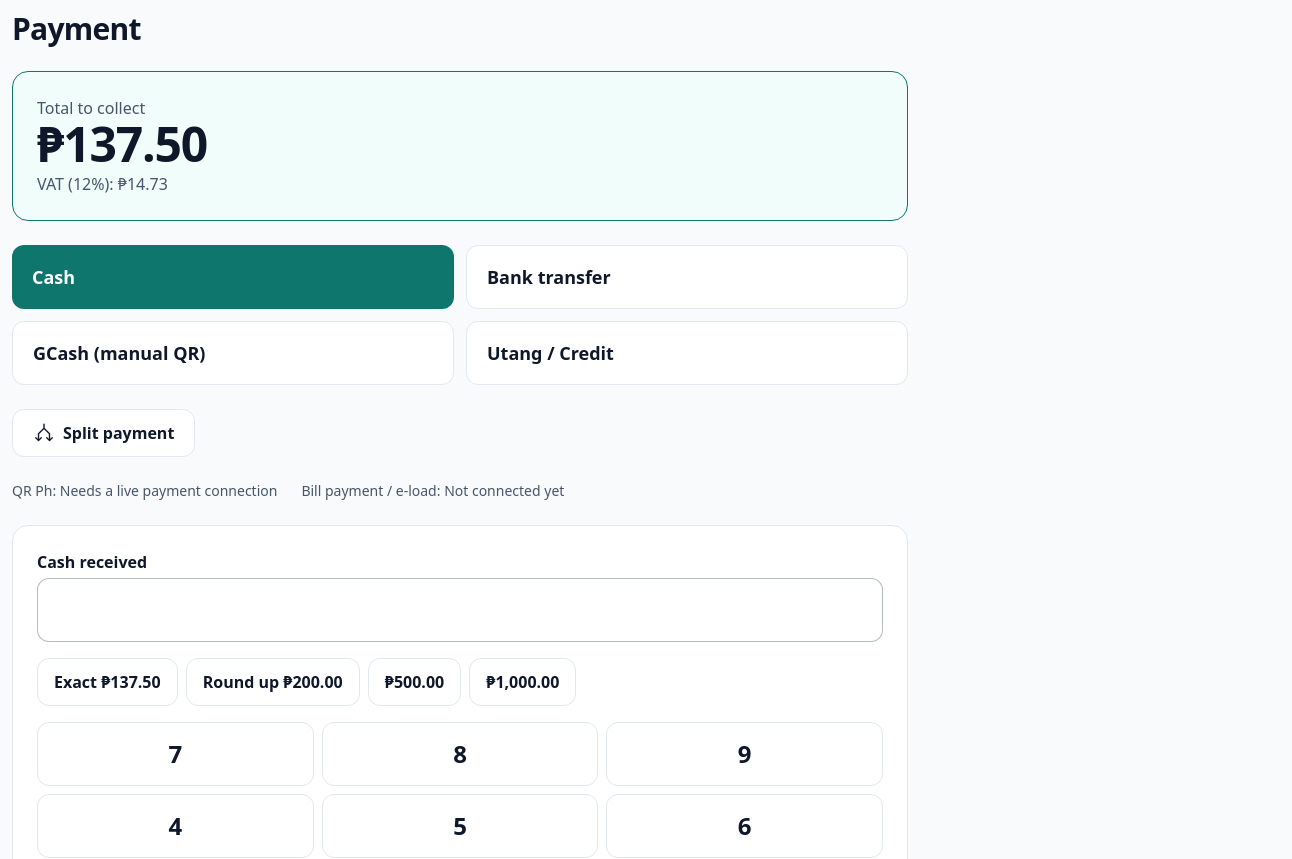
Test case: PaymentPage when the total on the server has moved › shows the server total again and charges nothing when the sale is refused for a changed price
Type "500" into the field labelled "Cash received".
click(460, 610); type("500")  # box [37, 578, 883, 642]
(page scrolled)
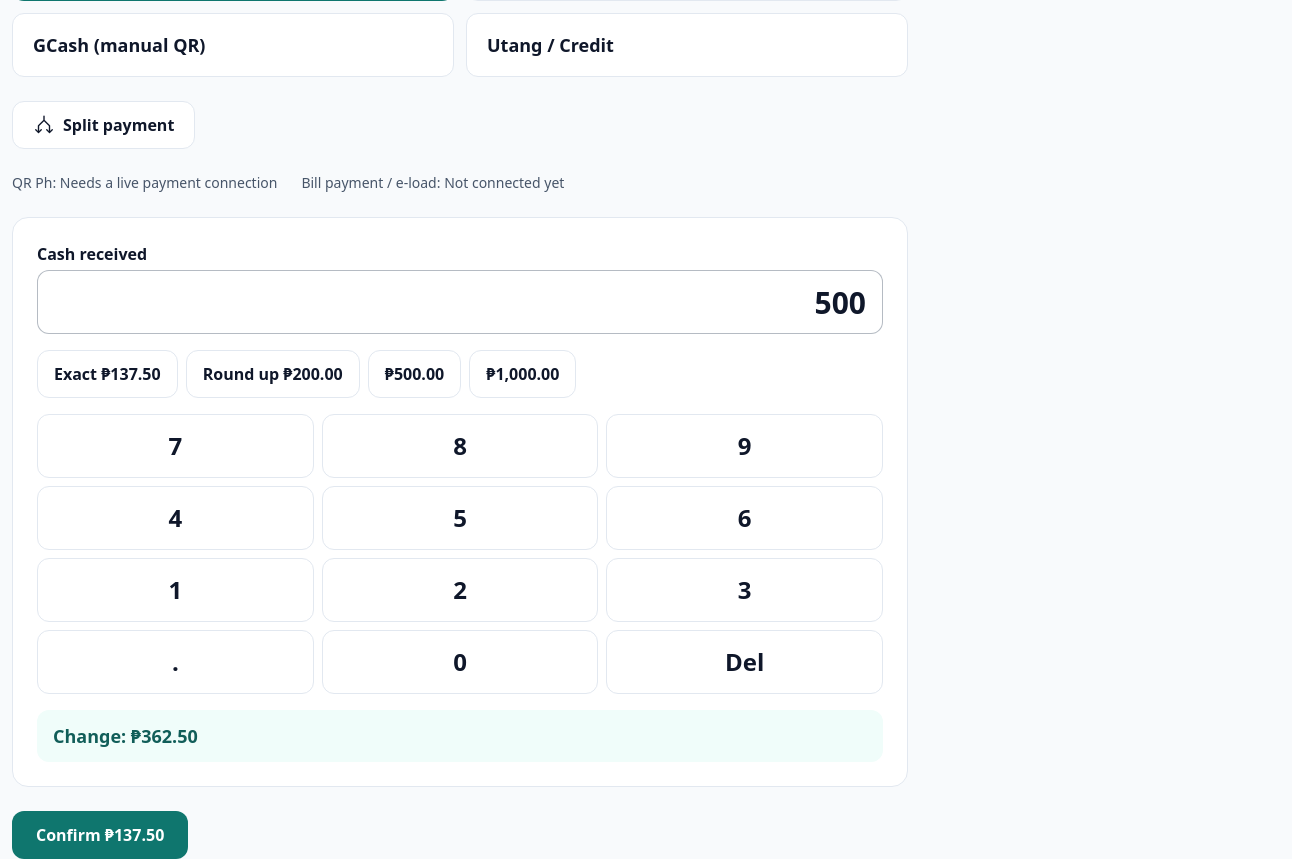
Click the button "Confirm ₱137.50".
click(100, 835)  # box [12, 811, 188, 858]
(page scrolled)
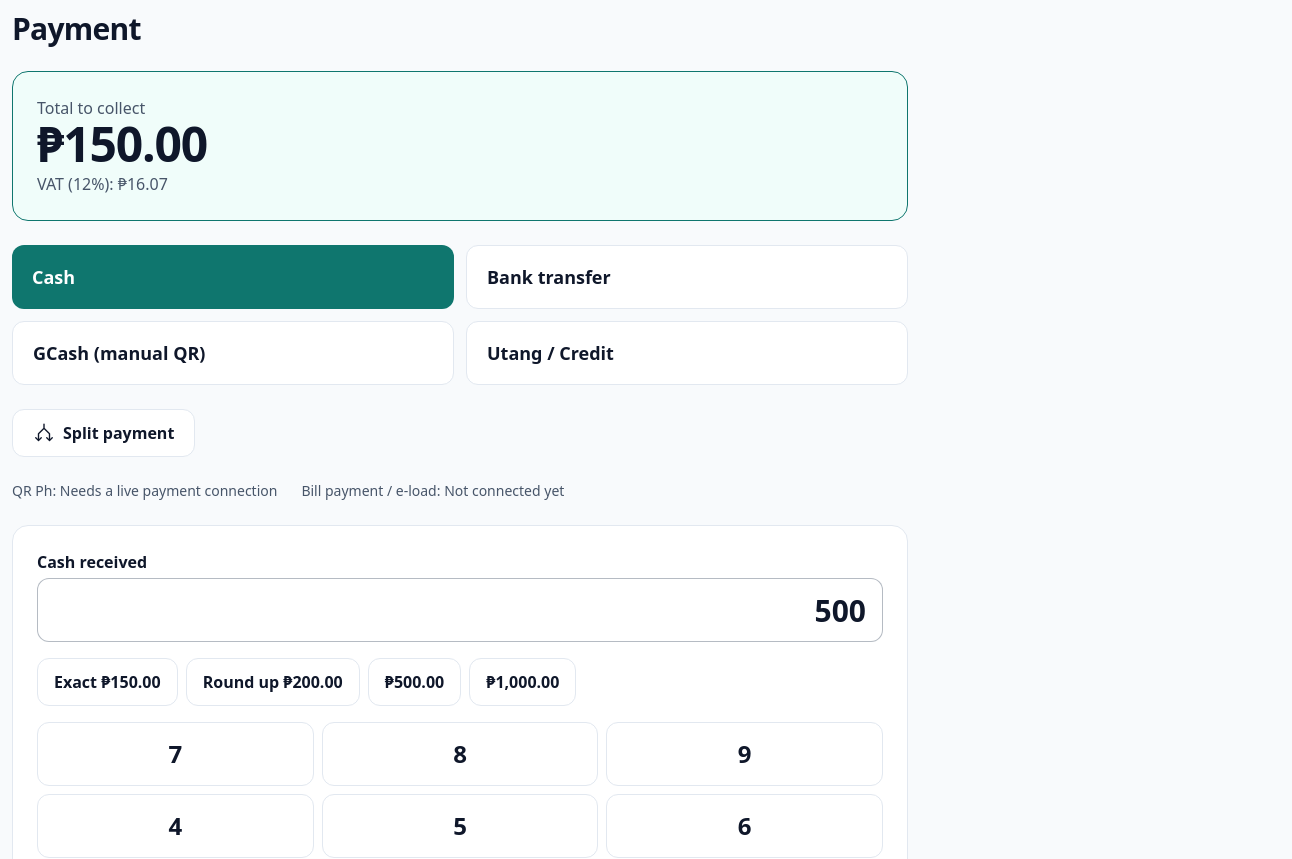
Result: the text with test id "amount-due" reads "₱150.00" at [37, 111, 207, 176]
